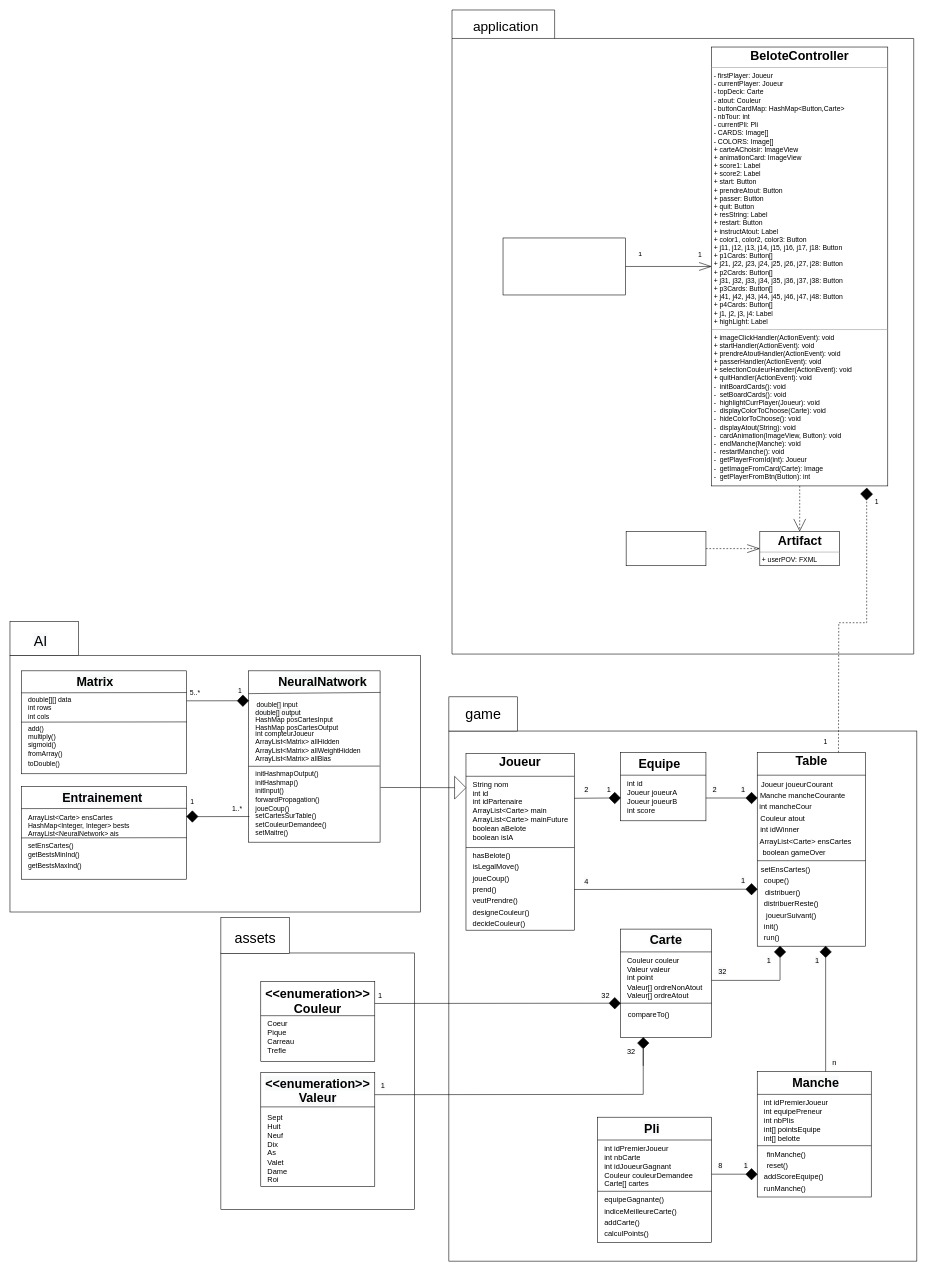
This 927x1271 diagram has some shape labels left out. The shapes that lost their labels are listed below. From the top down, each one's centre as x and y in pixels, then its label:
point 564,266: Main + start(Stage stage): void + main(String|] args): void
point 666,548: Artifact + application: CSS
